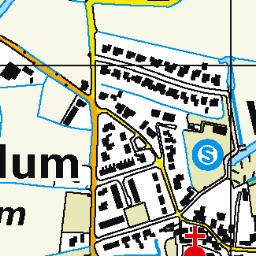church: (177, 221, 212, 256)
